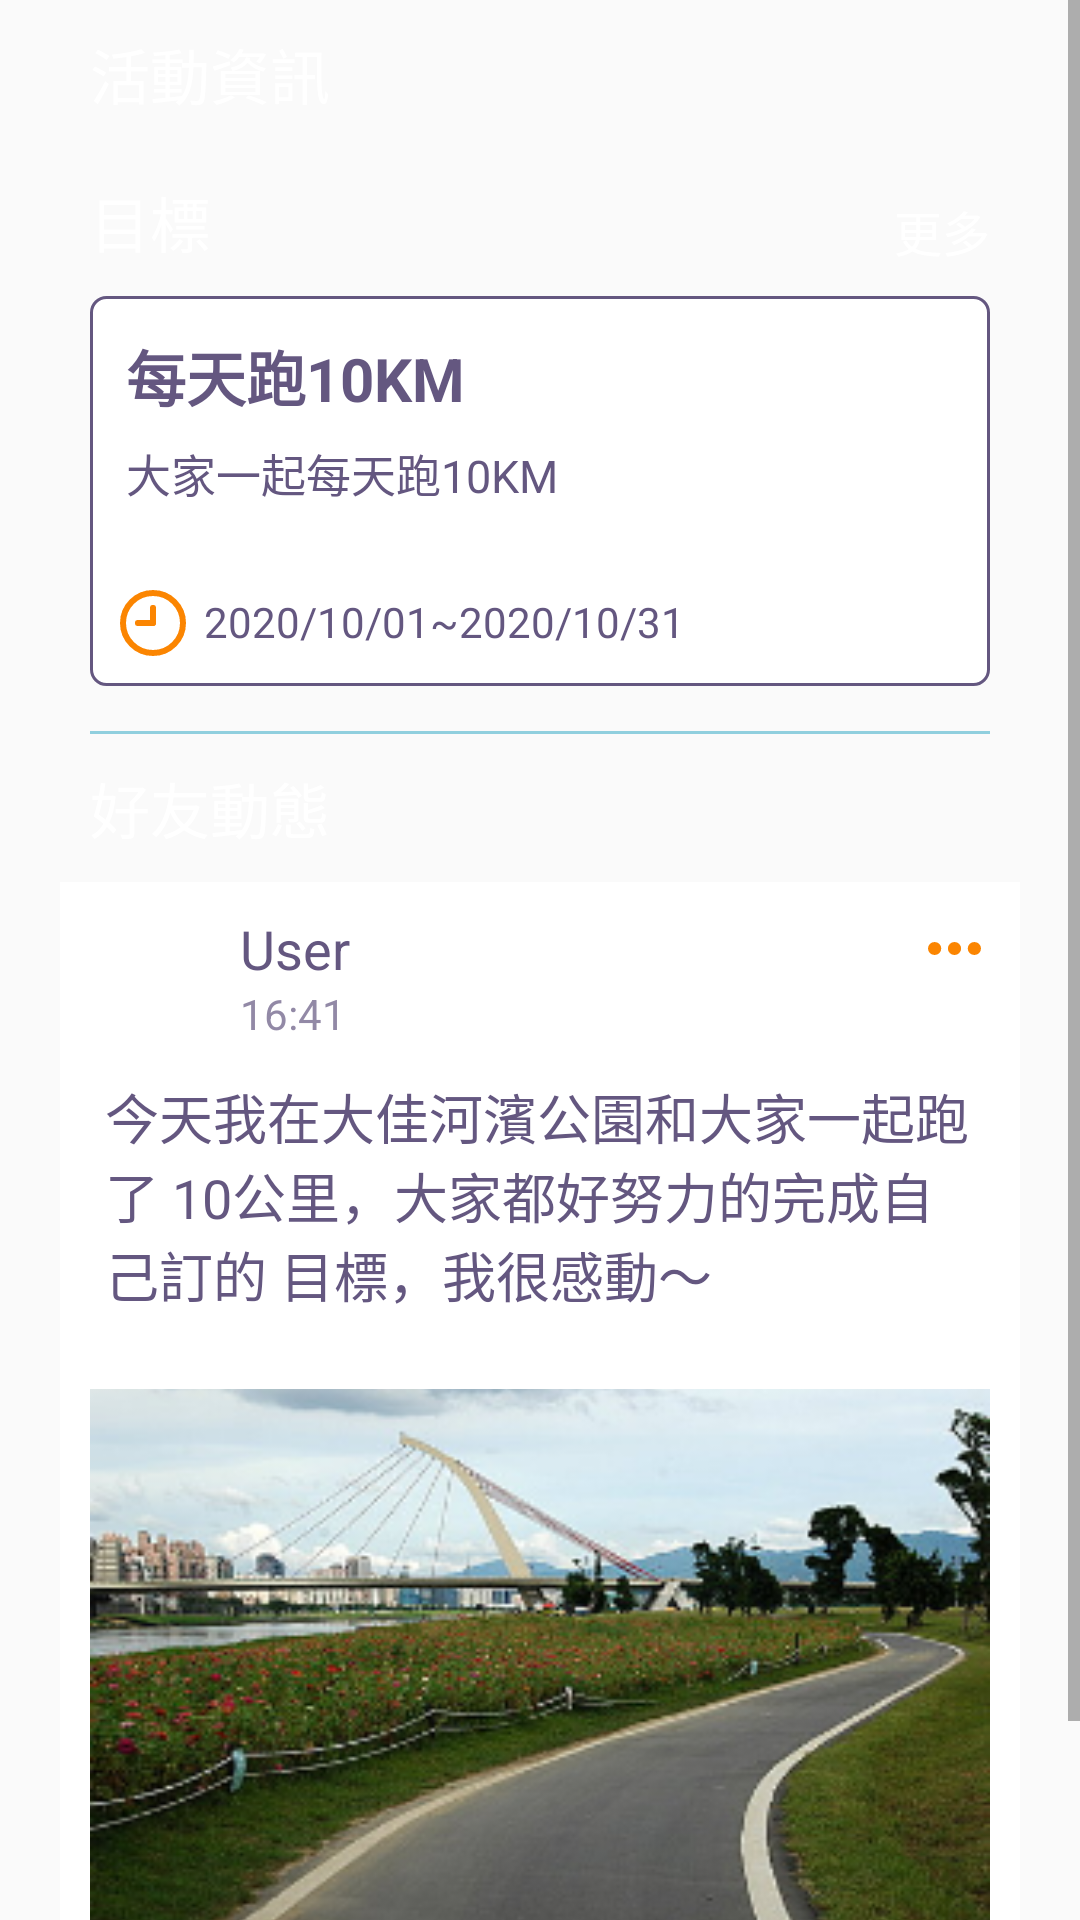

Named icons in this screenshot (1080px x 1920px) and their centers, (x,y):
Time: (153,623)
更多: (954,948)
